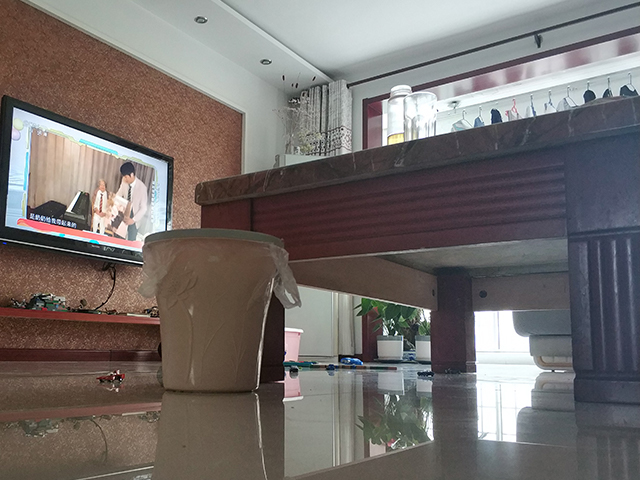table: (193, 86, 639, 408)
trashcan: (136, 226, 287, 394)
